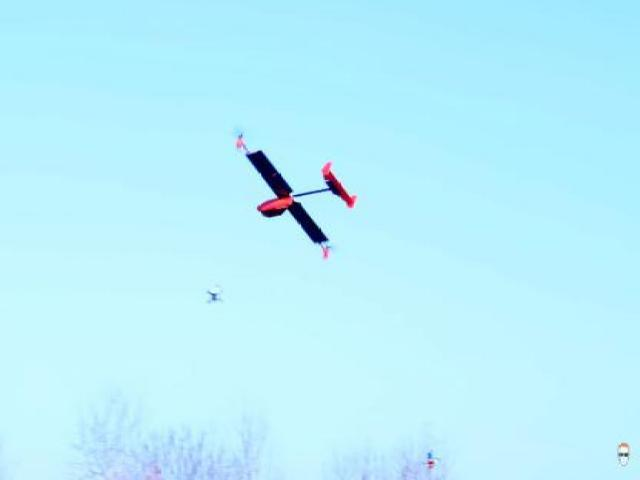uav: (226, 115, 366, 270)
